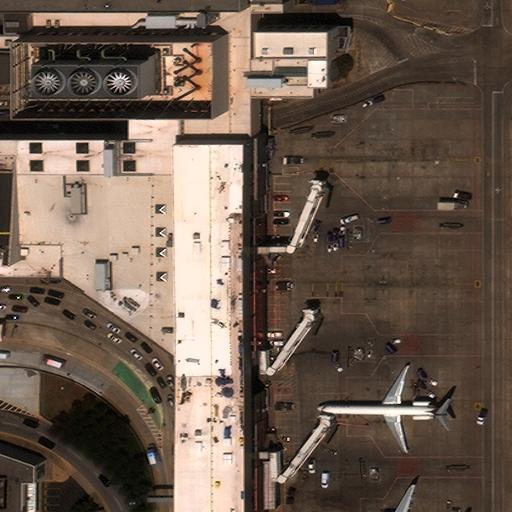Medium Civil Transport: (315, 365, 449, 453), (365, 484, 447, 512)
